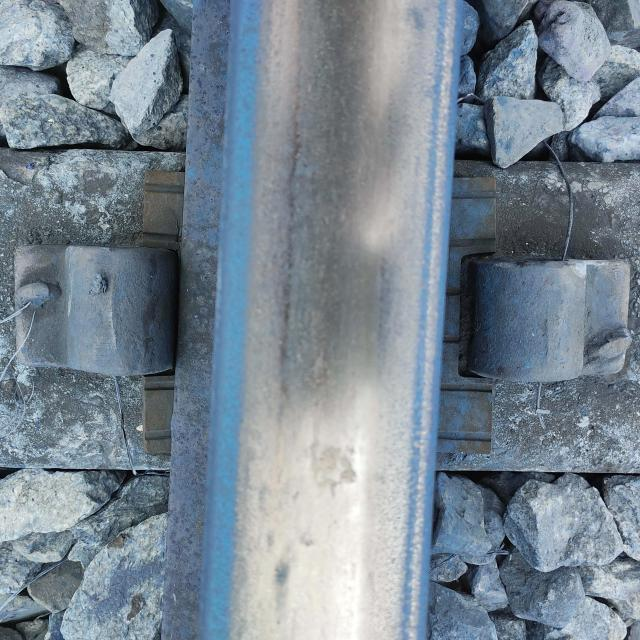Missing Fastener: (441, 228, 640, 420), (9, 223, 188, 410)
